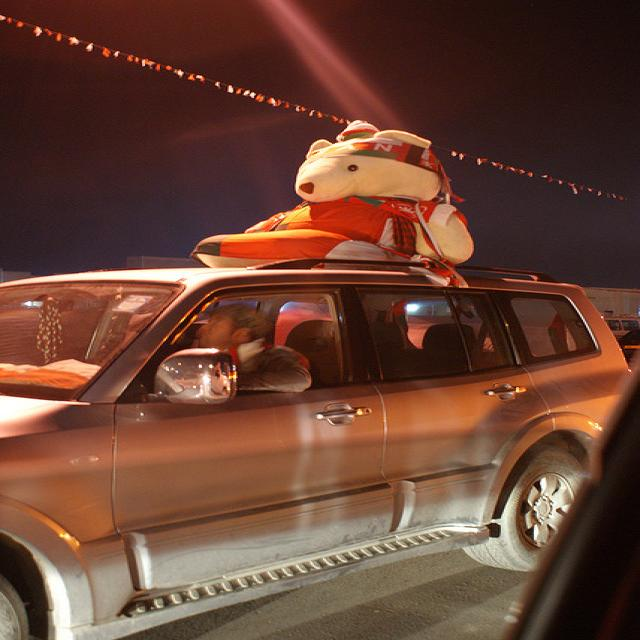Vehicle: (2, 256, 632, 632)
